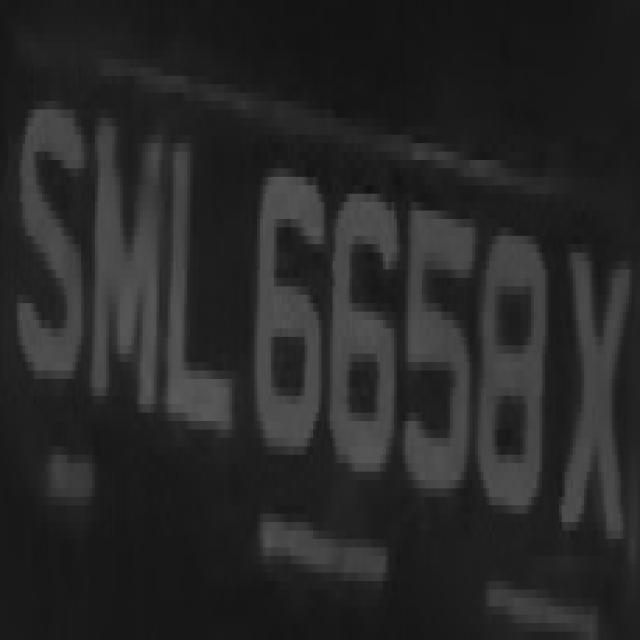5: (397, 152, 478, 548)
6: (243, 110, 324, 472), (330, 152, 400, 522)
8: (478, 194, 545, 530)
L: (160, 110, 240, 514)
M: (81, 76, 165, 514)
S: (8, 25, 87, 455)
X: (559, 194, 632, 598)
